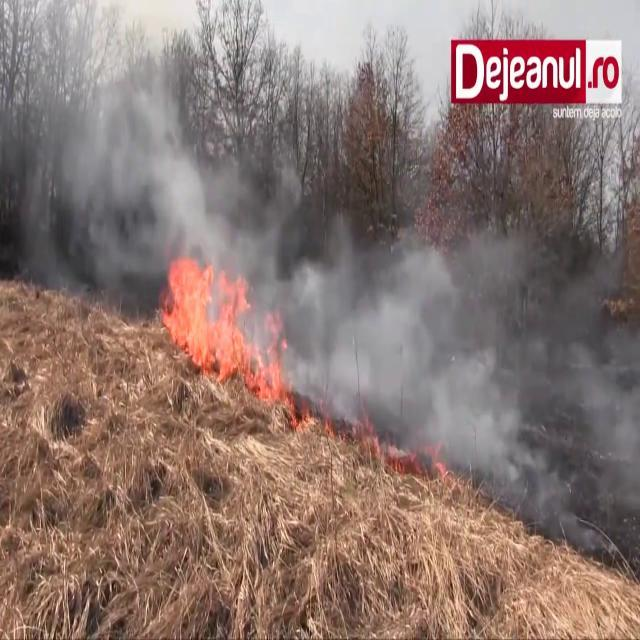Fire: (159, 242, 257, 378)
Smoke: (280, 195, 640, 538), (0, 2, 228, 310)
